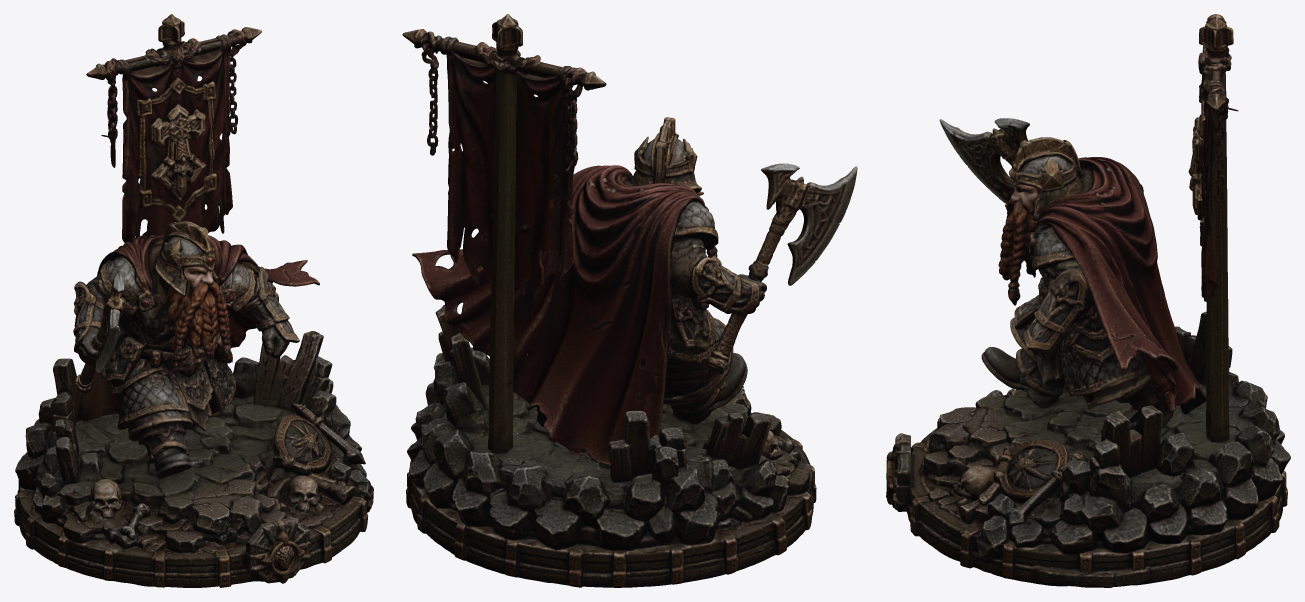
Rendered from Гимрод.glb.
The picture shows the model from 3 angles, left to right: view 1: azimuth 30°, elevation 25°; view 2: azimuth 150°, elevation 25°; view 3: azimuth 270°, elevation 25°; orthographic projection. The views are drawn at different scales.
Visible parts, largest first — view 1: tripo_node_fed82956-5ea9-463a-93b3-7d8481d6f54a; view 2: tripo_node_fed82956-5ea9-463a-93b3-7d8481d6f54a; view 3: tripo_node_fed82956-5ea9-463a-93b3-7d8481d6f54a.
Boxes of the visible parts, bbox=[...] form: tripo_node_fed82956-5ea9-463a-93b3-7d8481d6f54a: bbox=[14, 14, 373, 587]; tripo_node_fed82956-5ea9-463a-93b3-7d8481d6f54a: bbox=[402, 14, 857, 587]; tripo_node_fed82956-5ea9-463a-93b3-7d8481d6f54a: bbox=[886, 14, 1290, 587].
Size of the model in its own units: 0.7286 by 1 by 0.7211.
1 material, 1 textured.
